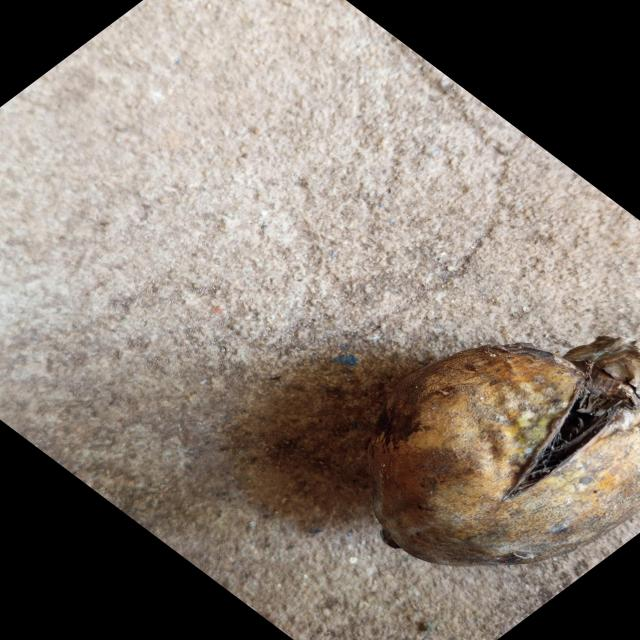damaged: (369, 336, 640, 566)
